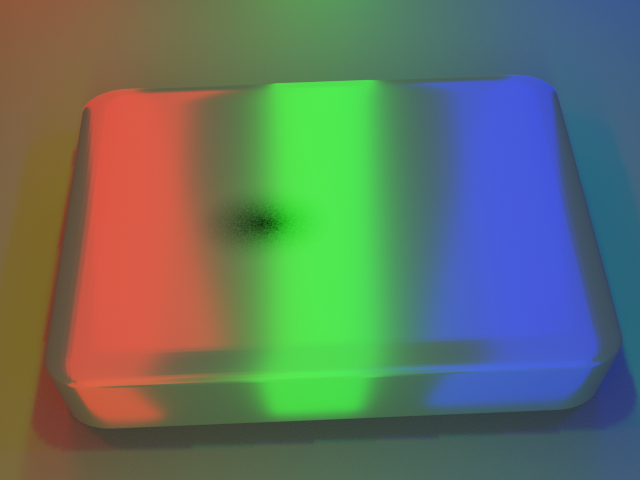stain: (178, 167, 382, 284)
